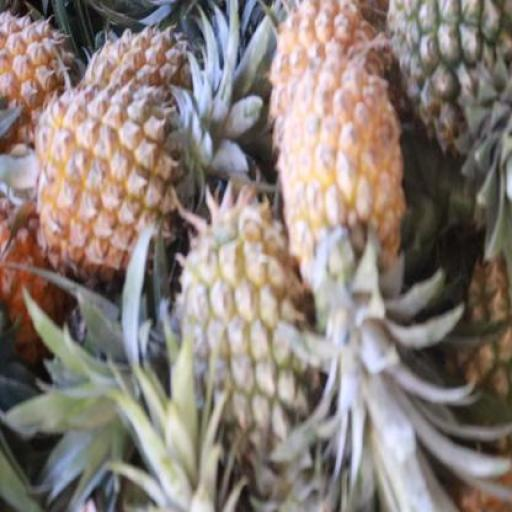------------------------------: (173, 228, 318, 478), (387, 0, 512, 161)
Pineapple - v8 v1: (285, 68, 398, 312), (34, 92, 172, 272)
